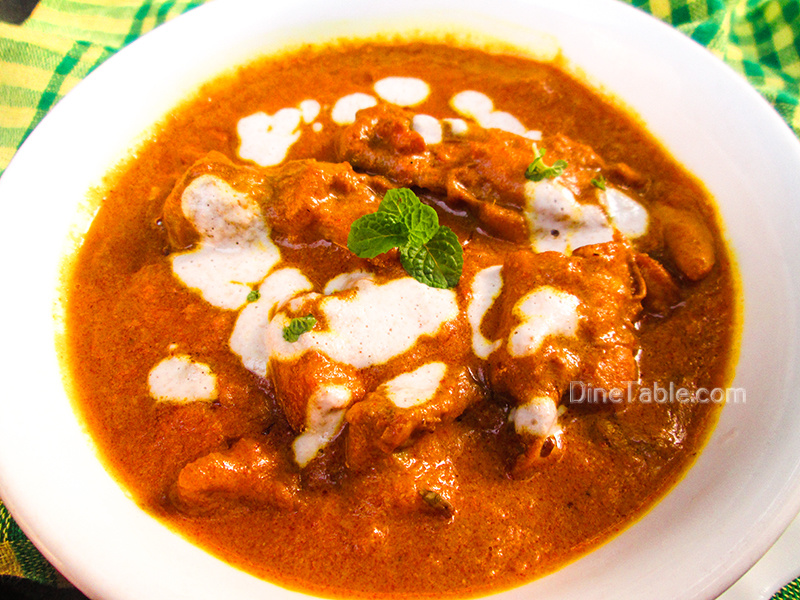butter_chicken: (102, 44, 700, 549)
